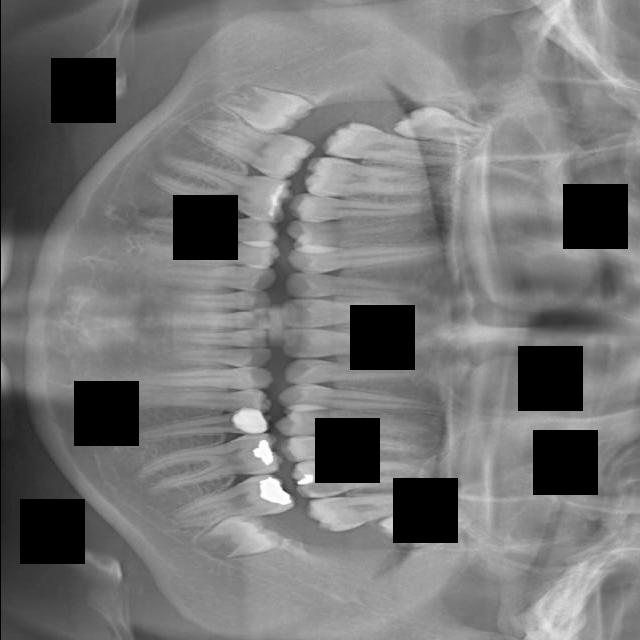3M ESPE Implant: (390, 99, 496, 151)
AGS Medikal Implant: (166, 470, 297, 533)
AMerOss Implant: (130, 428, 286, 502)
Amalgam filling: (320, 119, 472, 170)
Anthogyr Implant: (115, 408, 272, 448)
Bicon Implant: (129, 390, 272, 415)
BioHorizons Implant: (127, 365, 274, 390)
BioLife Implant: (160, 348, 272, 365)
Biomet 3i Implant: (167, 329, 270, 347)
Blue Sky Bio Implant: (166, 308, 272, 329)
Camlog Implant: (164, 288, 272, 311)
Caries: (282, 353, 434, 385)
Composite filling: (145, 264, 276, 291)
Cowellmedi Implant: (131, 235, 281, 267)
Crown: (123, 209, 279, 245)
DENTSPLY Implant: (384, 177, 423, 183)
Dentatus Implant: (143, 151, 294, 225)
Dentis Implant: (195, 125, 196, 126)
Dentium Implant: (211, 77, 315, 138)
Euroteknika Implant: (288, 193, 425, 225)
Filling: (284, 217, 436, 250)
Frontier Implant: (284, 243, 449, 274)
Hiossen Implant: (278, 385, 455, 414)
Implant: (279, 300, 425, 327)
Implant Direct: (283, 273, 434, 300)
Keystone Dental Implant: (278, 327, 421, 360)
MIS Implant: (275, 411, 429, 438)
Mandible: (298, 462, 299, 462)
Maxilla: (291, 455, 435, 499)
Megagen Implant: (423, 502, 424, 503)
Neodent Implant: (375, 497, 479, 557)
Neoss Implant: (190, 514, 285, 566)
